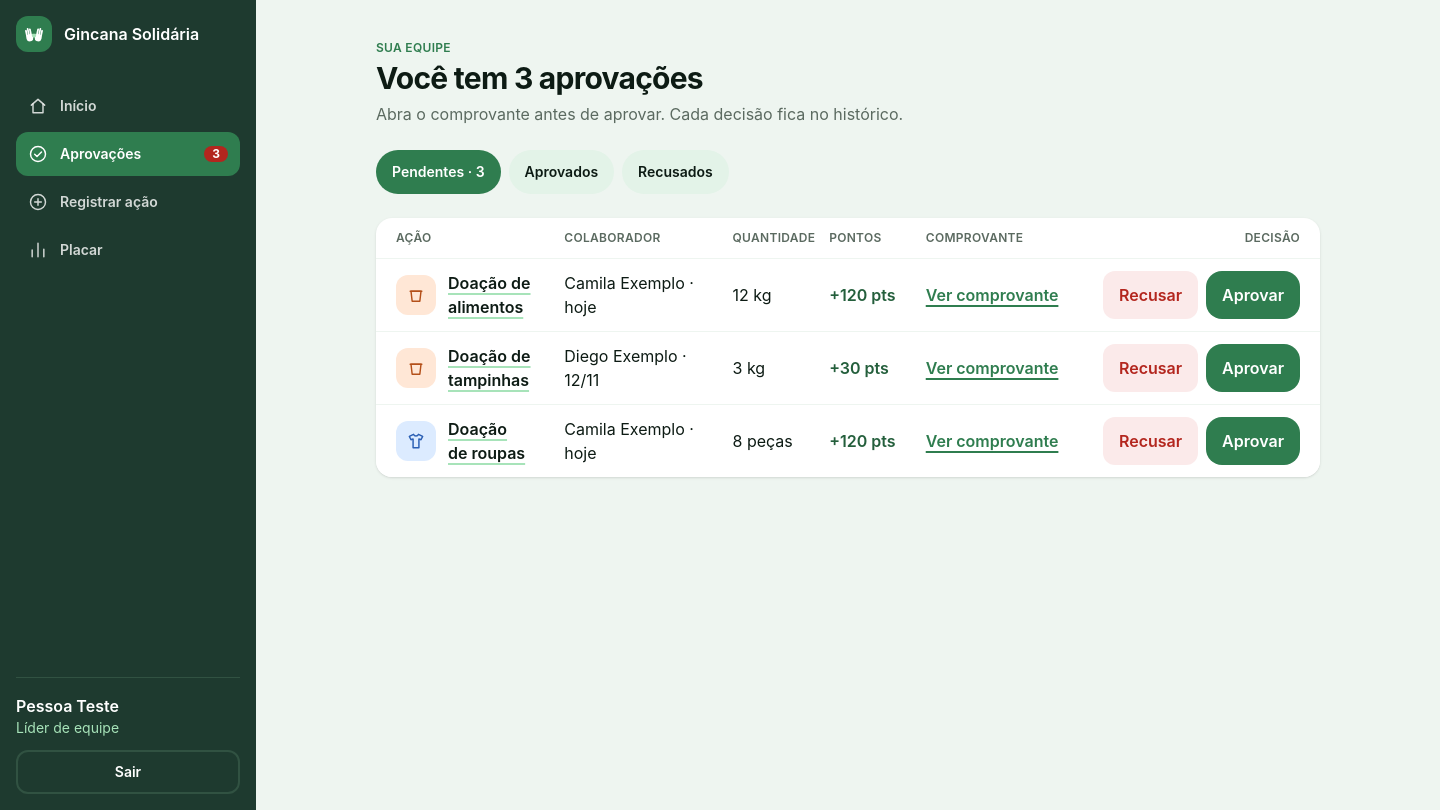
Fila de aprovações (US08) › aprovar › o aprovado passa a aparecer na aba Aprovados, com quem decidiu
Click the button with aria-label "Aprovar Doação de tampinhas de Diego Exemplo".
click(1253, 368)  # box [1206, 344, 1300, 392]
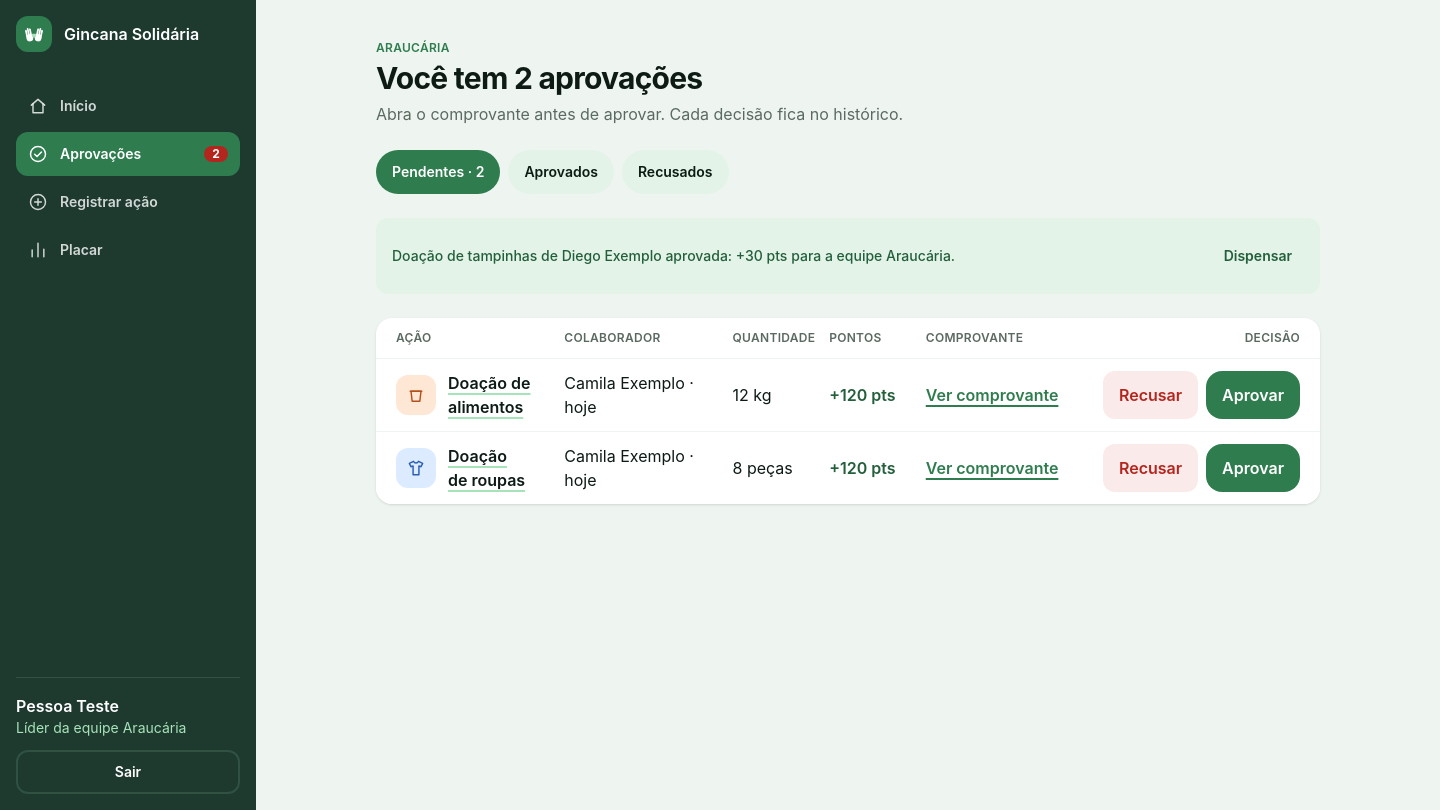
expect the text "Doação de tampinhas de Diego Exemplo aprovada" is shown: met, box [392, 246, 955, 264]
Click the tab "Aprovados".
click(561, 172)  # box [508, 150, 614, 194]
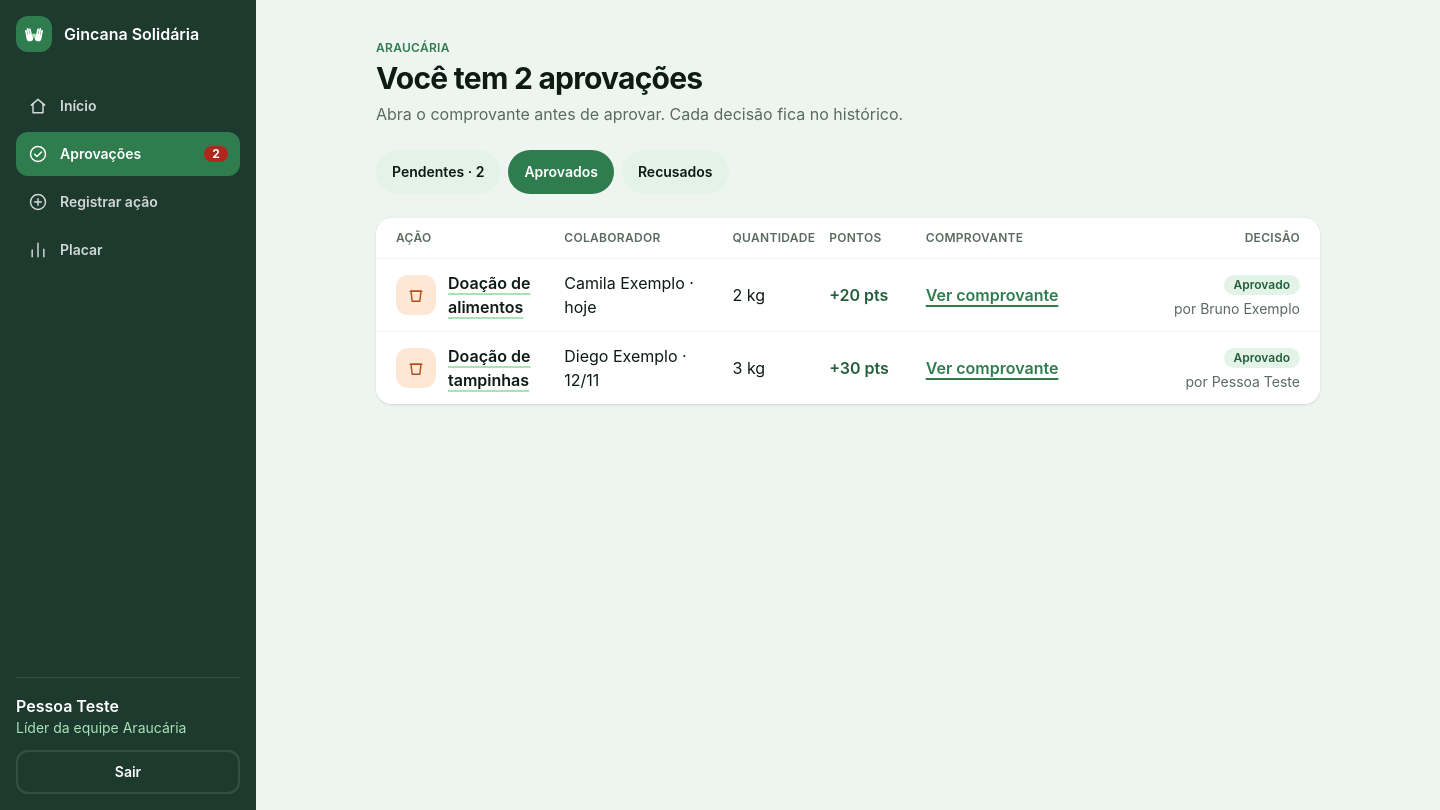
expect the table named "Lançamentos aprovados" shows "Diego Exemplo": met, box [564, 346, 678, 366]
expect the table named "Lançamentos aprovados" shows "Aprovado": met, box [1234, 276, 1290, 292]
expect the table named "Lançamentos aprovados" shows "por Pessoa Teste": met, box [376, 218, 1320, 404]
